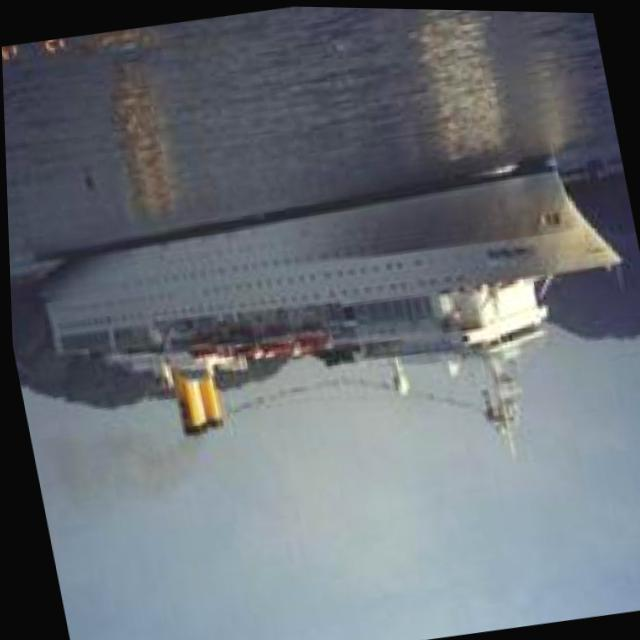ship2: (31, 157, 621, 457)
